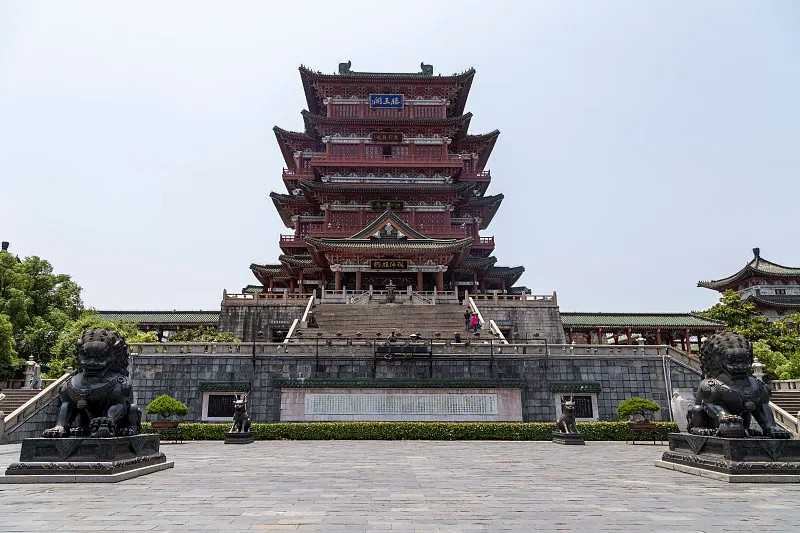Teng: (241, 61, 531, 296)
